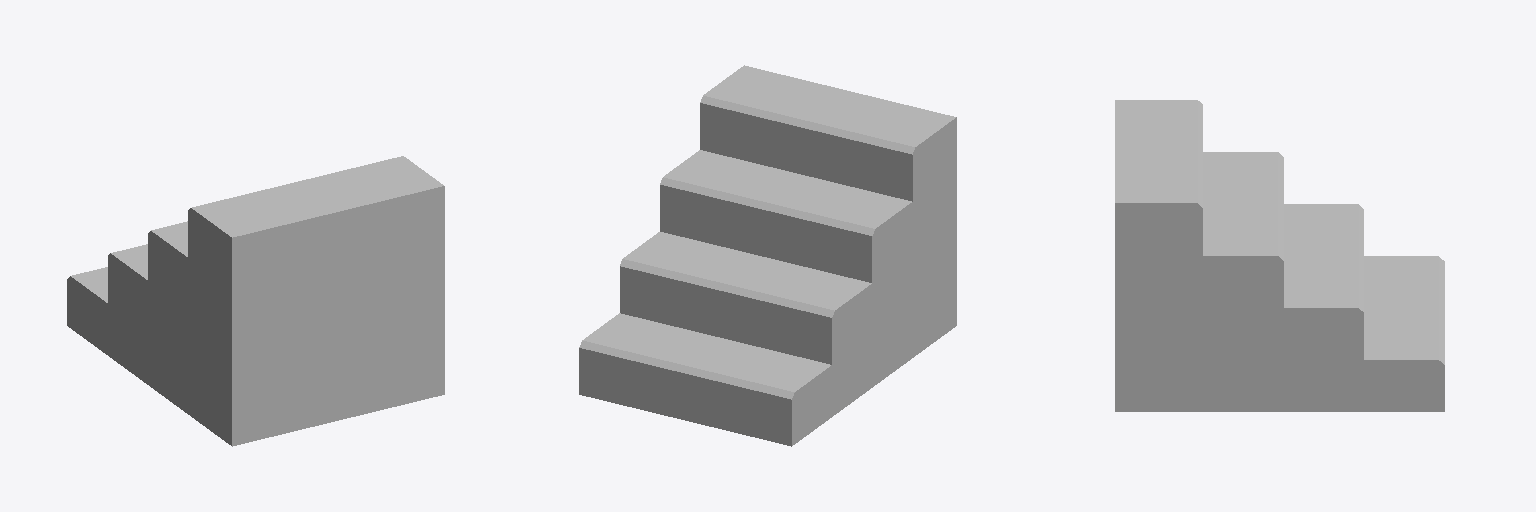
The model's file is BG_ESCALIER.obj.
The picture shows the model from 3 angles: view 1: azimuth 30°, elevation 25°; view 2: azimuth 150°, elevation 25°; view 3: azimuth 270°, elevation 25°; orthographic projection.
Visible parts, largest first — view 1: pCube11; view 2: pCube11; view 3: pCube11.
Part boxes in pixels (x1,y1,x2,y2): pCube11: (67, 156, 444, 446); pCube11: (579, 65, 956, 446); pCube11: (1115, 100, 1444, 411).
Size of the model in its own units: 197 by 185 by 264.